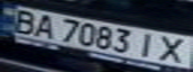0: (75, 20, 96, 47)
3: (112, 26, 136, 54)
7: (54, 16, 81, 44)
8: (93, 24, 115, 52)
A: (30, 11, 60, 38)
B: (6, 7, 42, 35)
I: (133, 29, 163, 58)
X: (154, 34, 193, 64)
